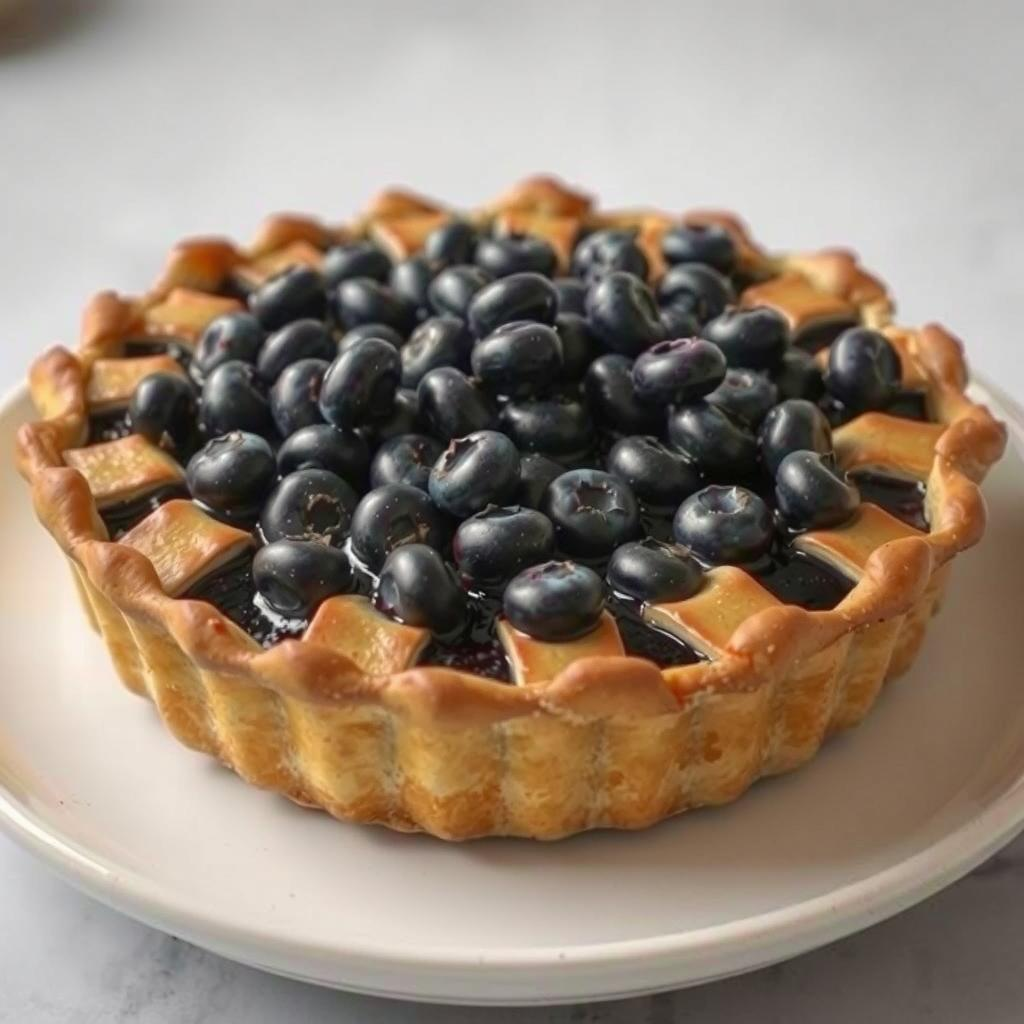pie: (9, 170, 1019, 839)
